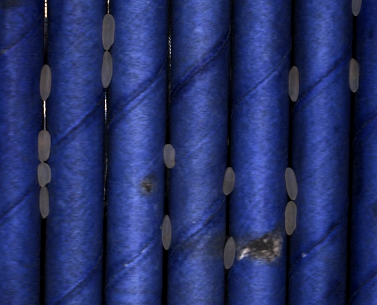broken_grain: (35, 161, 55, 188), (160, 142, 178, 172)
complete_grain: (283, 199, 300, 241), (99, 50, 115, 91), (283, 165, 300, 202), (101, 11, 116, 52), (287, 64, 301, 105), (221, 163, 236, 201), (38, 62, 52, 102), (36, 128, 52, 163), (222, 236, 237, 273), (160, 213, 174, 251), (37, 186, 51, 220), (349, 56, 360, 97)
